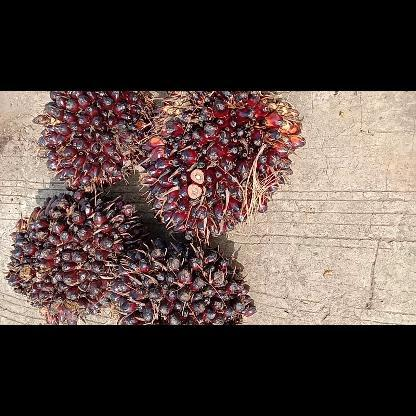TBS mentah: (138, 90, 306, 246), (1, 192, 143, 324), (104, 236, 260, 324), (34, 90, 156, 192)
